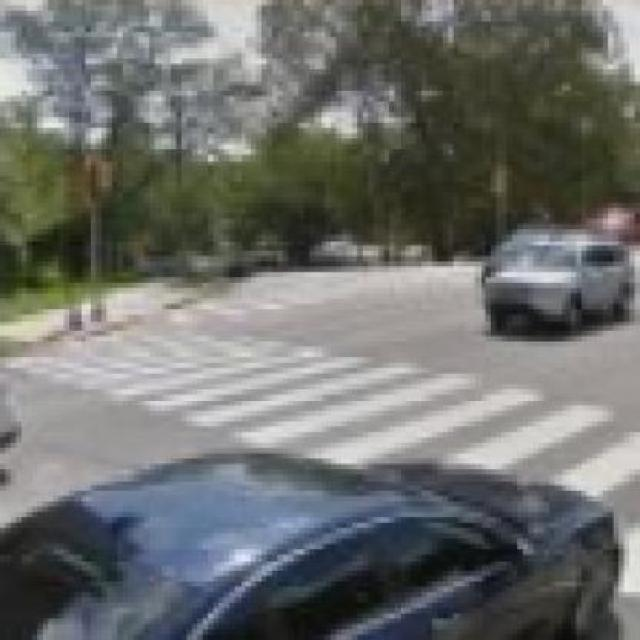crosswalk: (27, 326, 640, 593)
